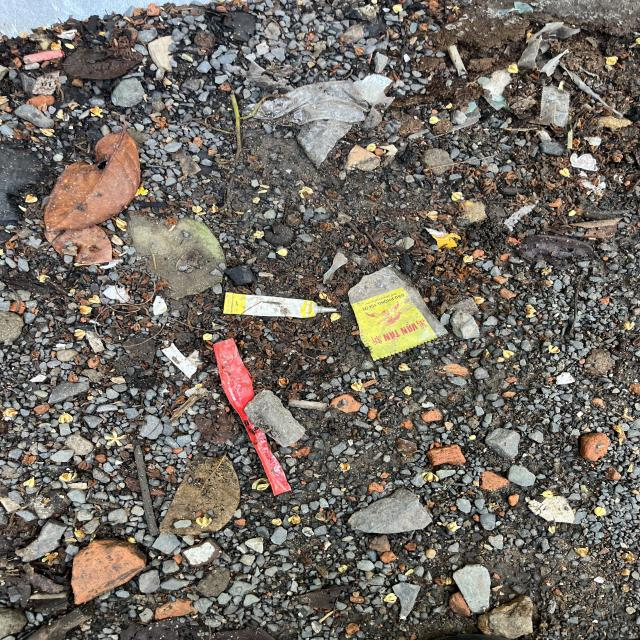packet: (213, 337, 292, 498), (348, 266, 450, 362)
